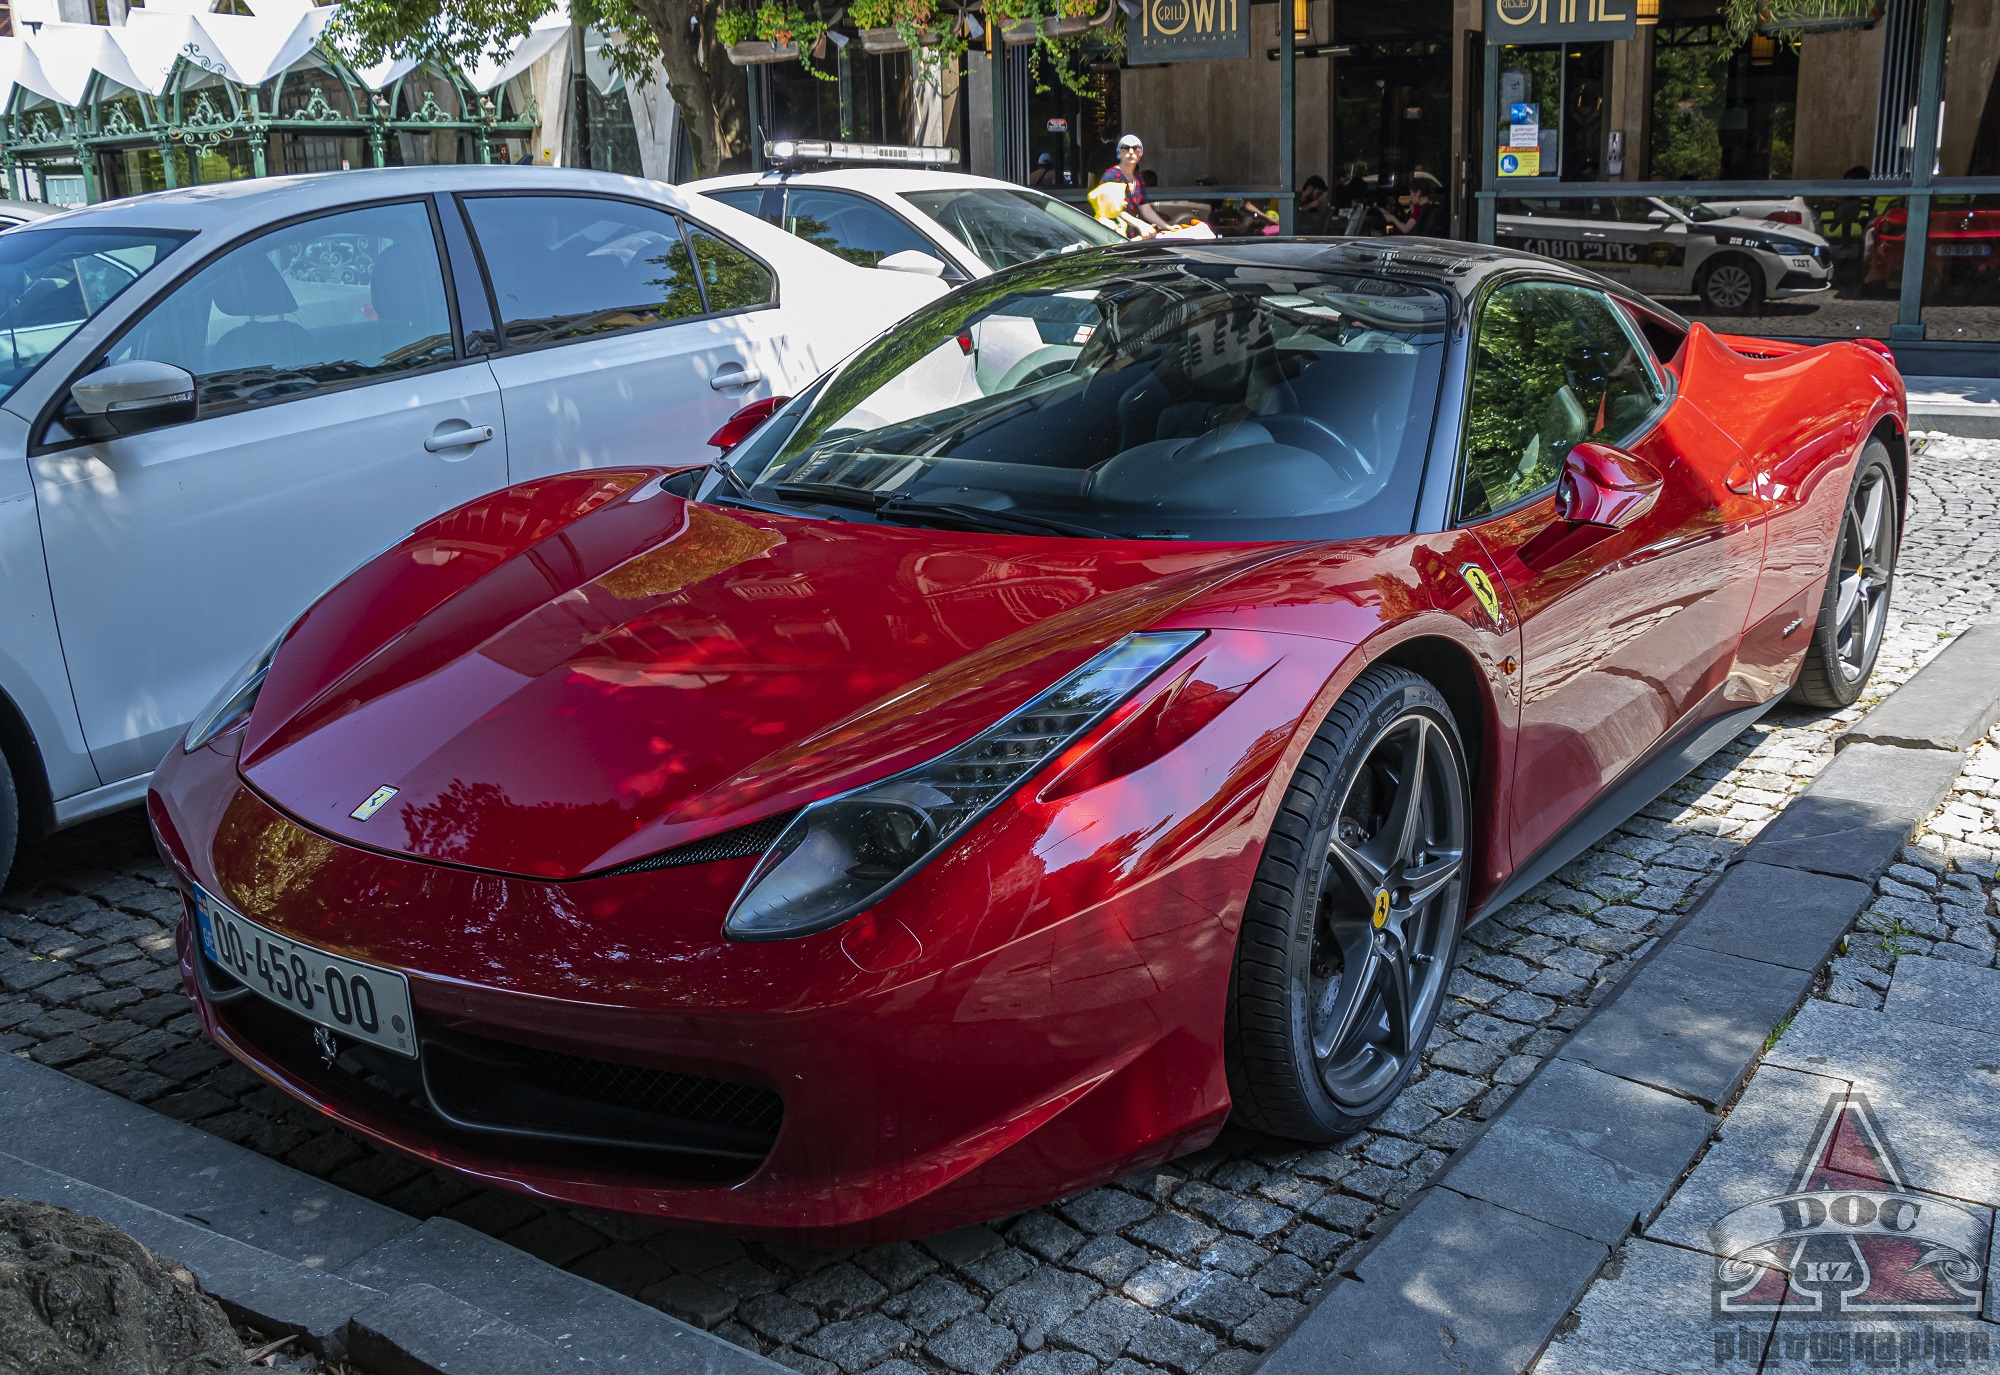plaka: (185, 879, 420, 1058)
